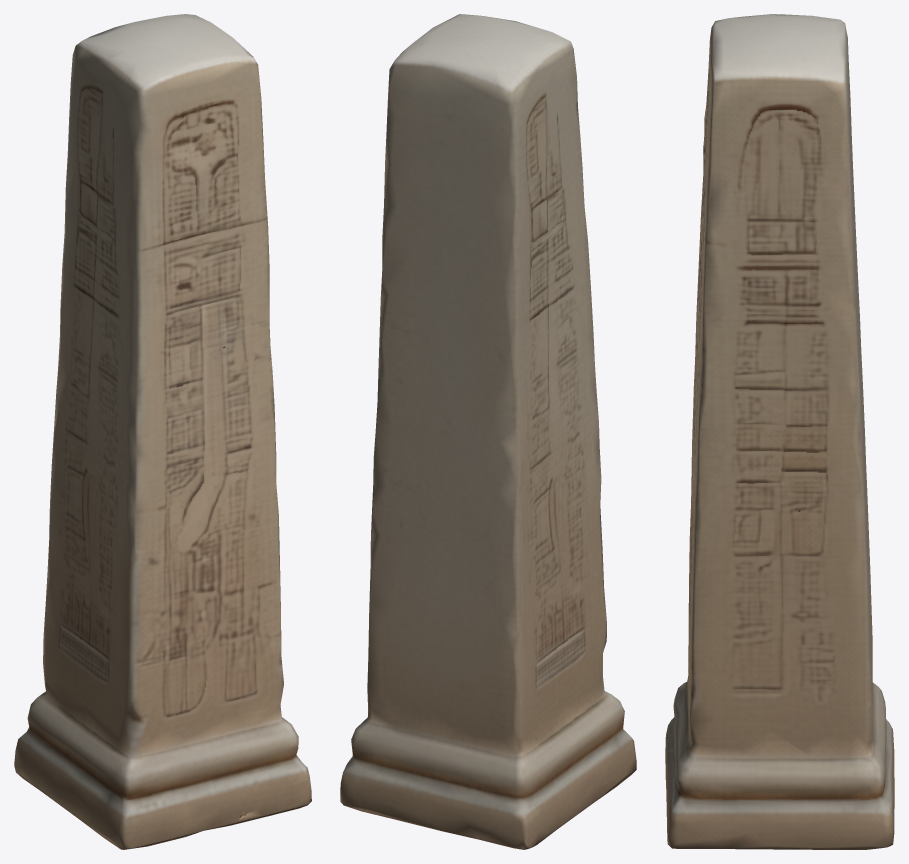
File: obelisk.glb
The picture shows the model from 3 angles, left to right: view 1: azimuth 30°, elevation 25°; view 2: azimuth 150°, elevation 25°; view 3: azimuth 270°, elevation 25°; orthographic projection. The views are drawn at different scales.
Visible parts, largest first — view 1: geometry_0; view 2: geometry_0; view 3: geometry_0.
Boxes of the visible parts, x1,y1,x2,y2 form: geometry_0: (14,14,311,849); geometry_0: (340,14,636,849); geometry_0: (665,14,894,849).
Size of the model in its own units: 0.2697 by 1 by 0.27.
1 material, 1 textured.
